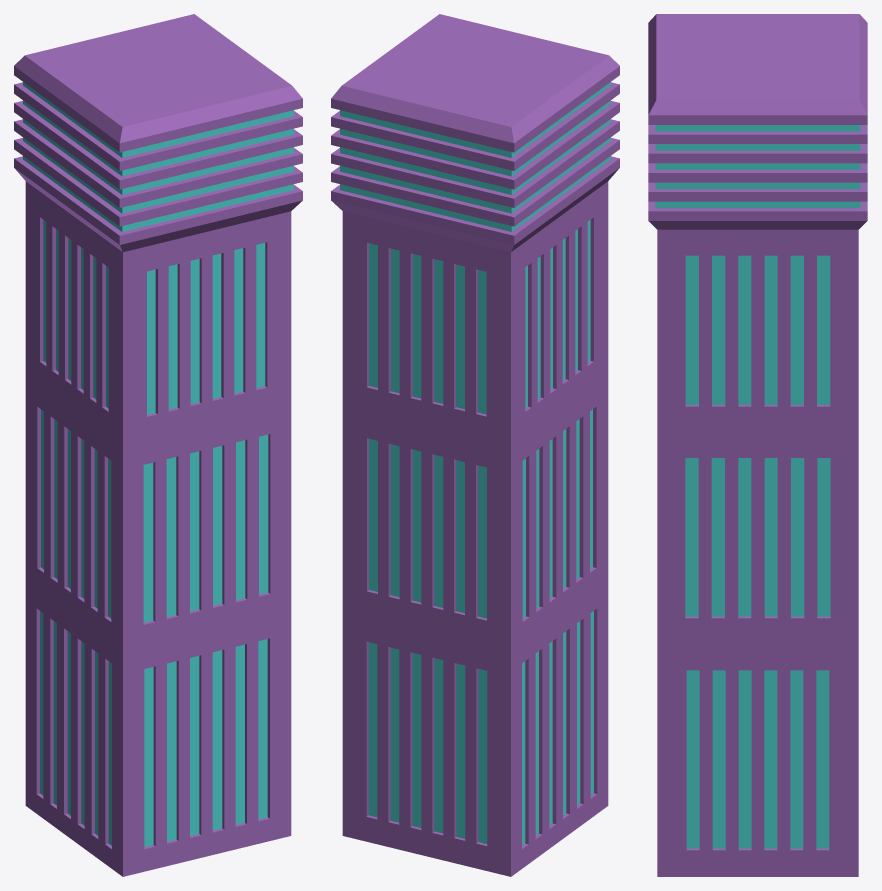
The model's file is Building 1 - Colors Named.fbx.
The picture shows the model from 3 angles, left to right: view 1: azimuth 30°, elevation 25°; view 2: azimuth 150°, elevation 25°; view 3: azimuth 270°, elevation 25°; orthographic projection. The views are drawn at different scales.
Visible parts, largest first — view 1: Building; view 2: Building; view 3: Building.
Boxes of the visible parts, x1,y1,x2,y2 form: Building: [14, 14, 302, 876]; Building: [331, 14, 619, 876]; Building: [648, 14, 867, 876].
Bounding box in the file's own units: 17.08 × 66.83 × 17.08.
